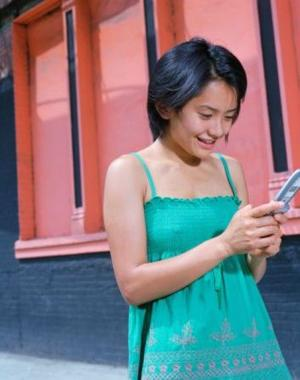person: (104, 40, 292, 379)
